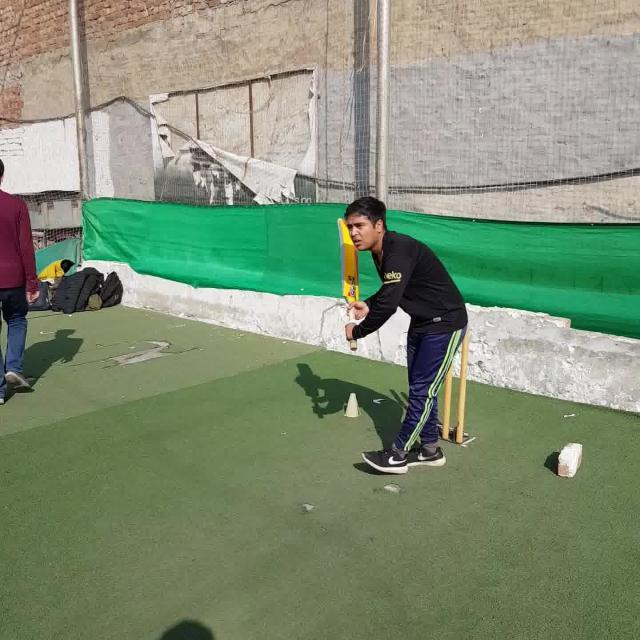bat: (338, 219, 360, 349)
